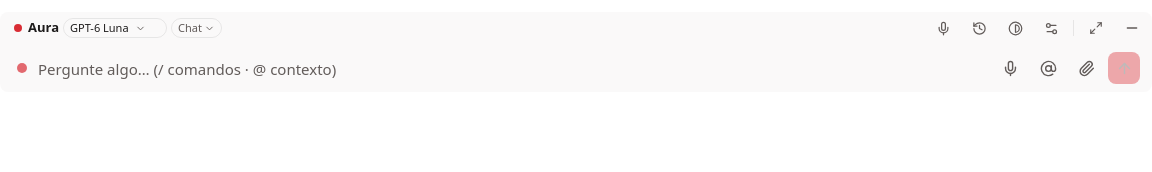
Test case: composer menus (015) › the input is a combobox tied to its suggestions
Type "/tl" into the dropdown at (513, 70), box top-left (38, 55), bottom-right (988, 84)
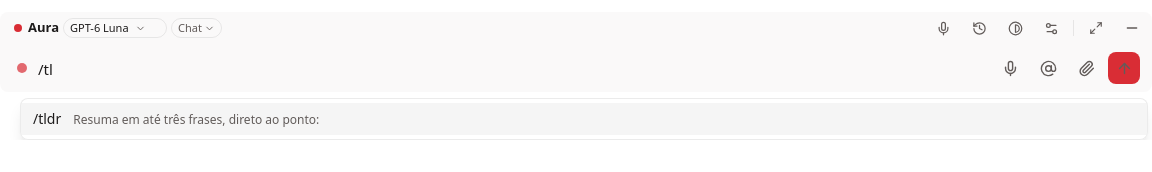
Expected: the dropdown is expanded, top-left (38, 55), bottom-right (988, 84)
